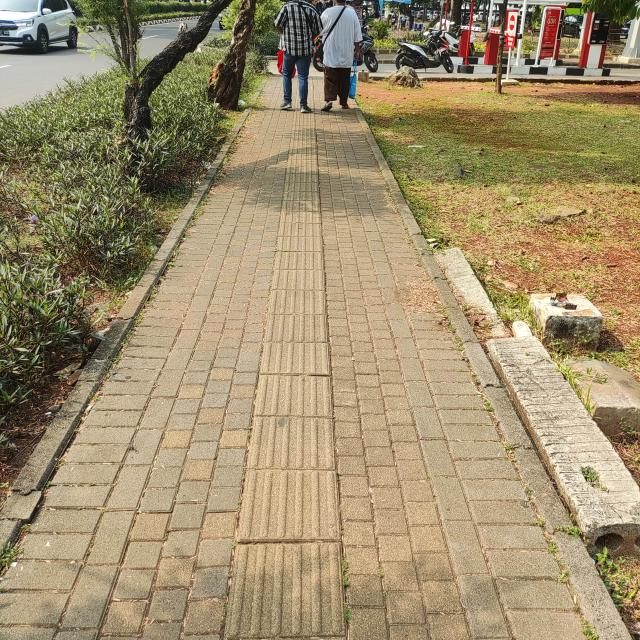lurus: (260, 125, 344, 640)
